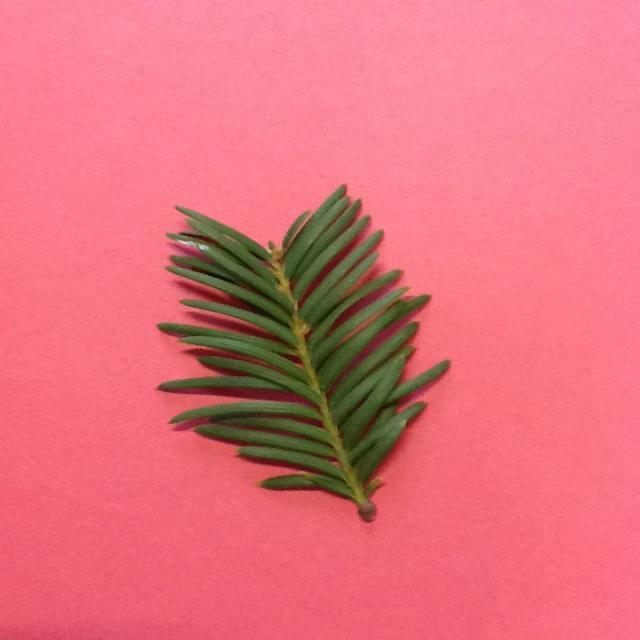foliage: (158, 178, 452, 522)
